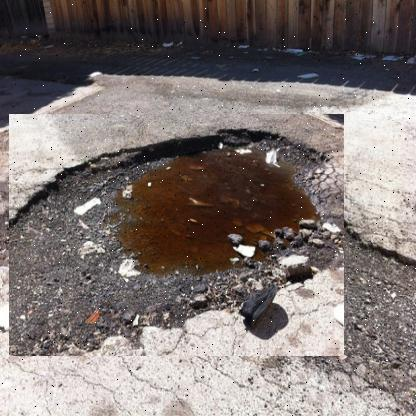pothole: (9, 114, 345, 357)
